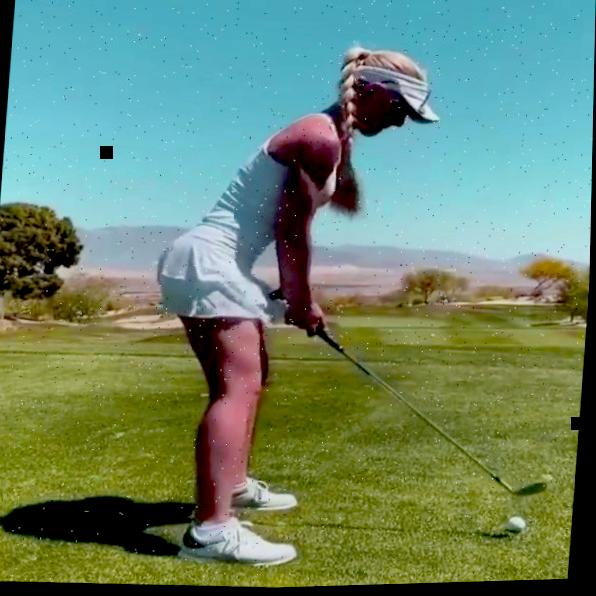ClubHead: (519, 483, 552, 502)
GolfBall: (509, 520, 530, 538)
